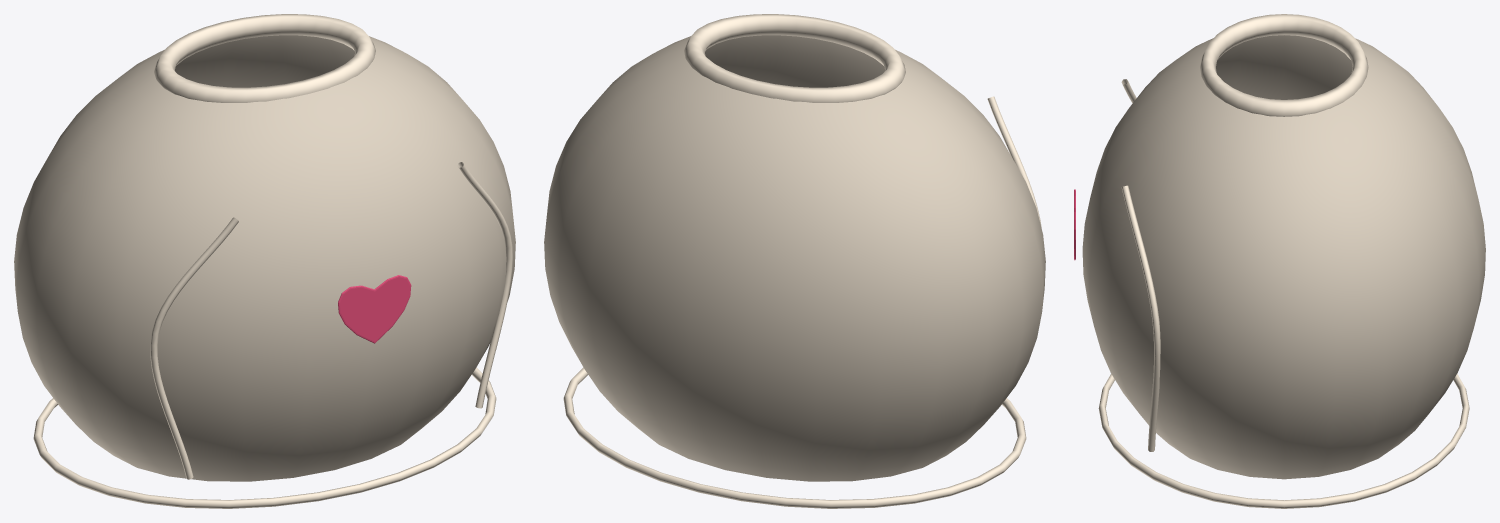
The model's file is shirt_love.glb.
3 renders of one model, left to right at view 1: azimuth 30°, elevation 25°; view 2: azimuth 150°, elevation 25°; view 3: azimuth 270°, elevation 25°, orthographic. The views are drawn at different scales.
Parts seen in each view (by area): view 1: Camiseta abrazo; view 2: Camiseta abrazo; view 3: Camiseta abrazo.
Part boxes in pixels (x1=…): Camiseta abrazo: x1=14, y1=14, x2=515, y2=508; Camiseta abrazo: x1=544, y1=14, x2=1045, y2=508; Camiseta abrazo: x1=1074, y1=14, x2=1485, y2=508.
Bounding box in the file's own units: 0.5698 × 0.4397 × 0.4654.
